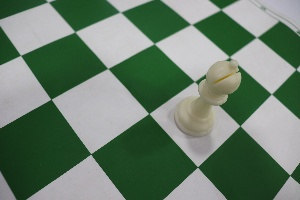white_bishop: (166, 31, 241, 152)
